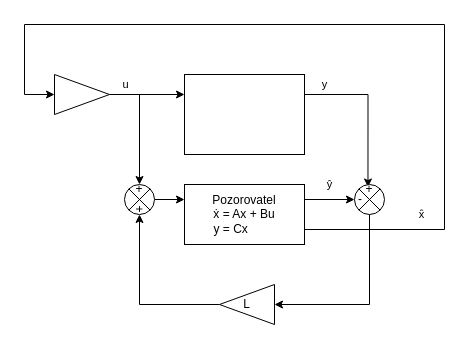
Some shapes in this 470 by 342 pixel diagram are drawn without their labels. Each missing label, with the box of its shape:
-K: (54, 74, 110, 114)
Systém ẋ = Ax + Bu y = Cx: (184, 74, 304, 154)
